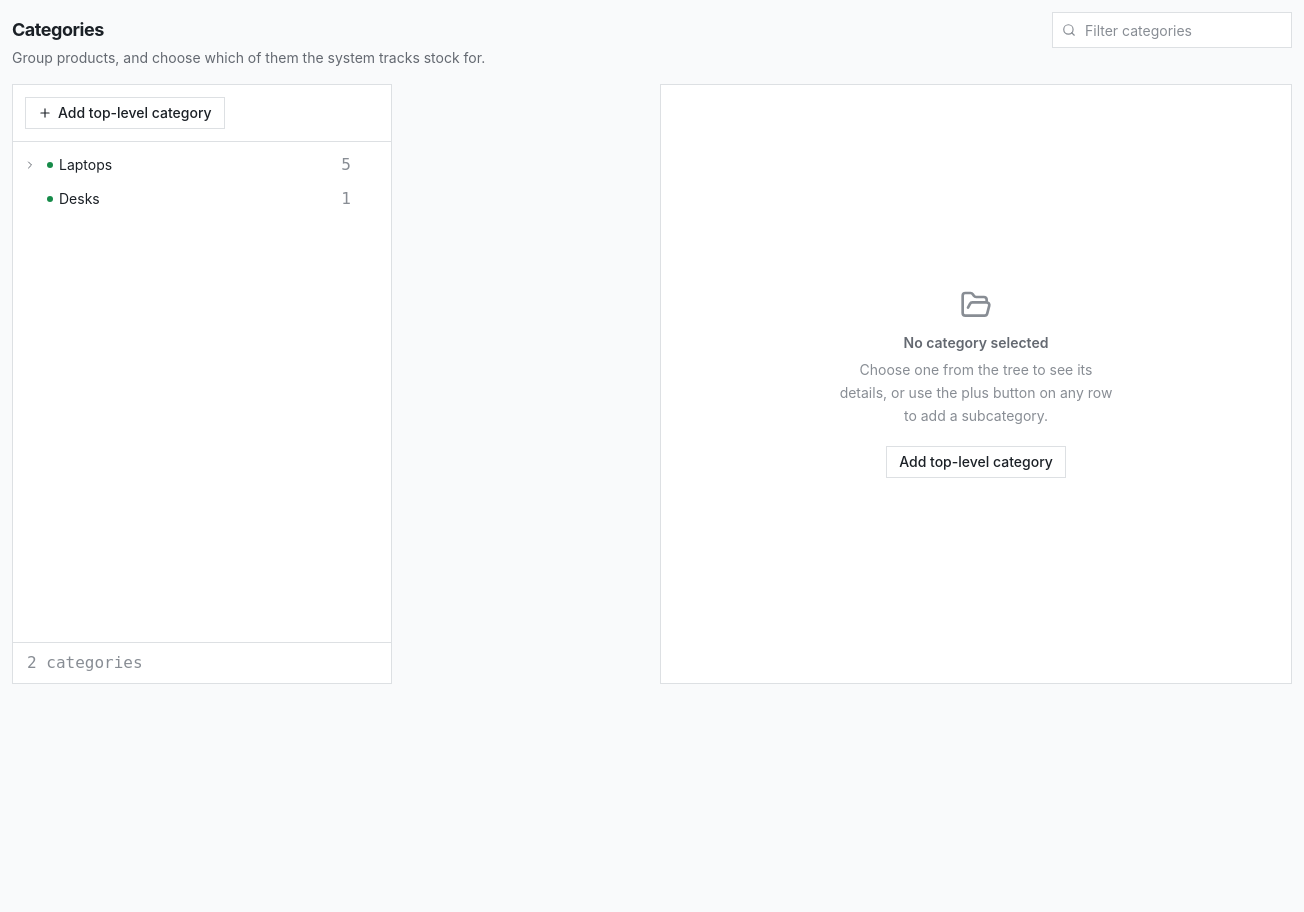
CategoriesPage › the detail panel › shows the selected category, its path and its counts
Step 1. Click the button named "Expand Laptops" → (30, 164), box [19, 154, 41, 176]
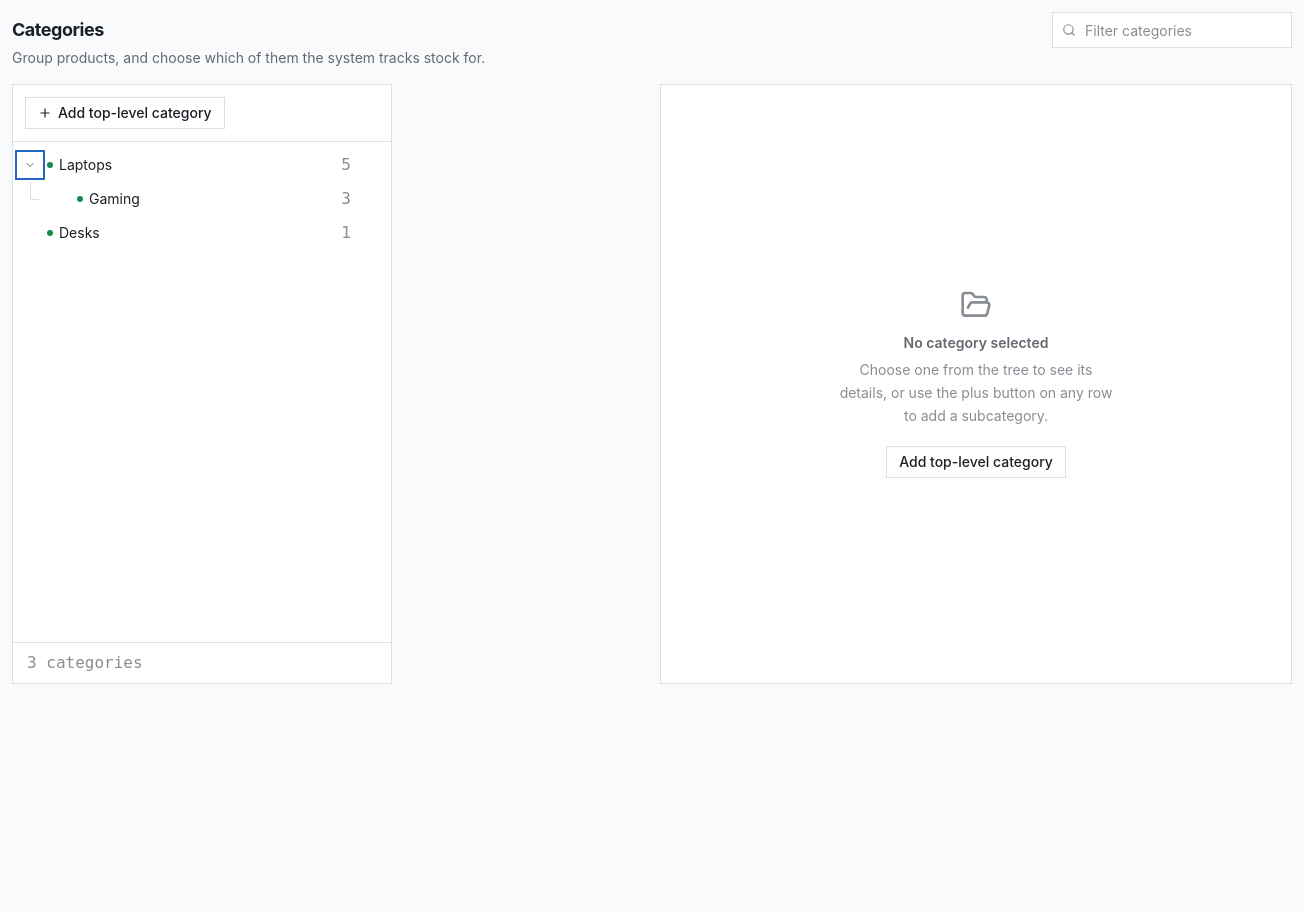
Step 2. Click the list item "Gaming 3" → (114, 198), box [77, 188, 351, 208]
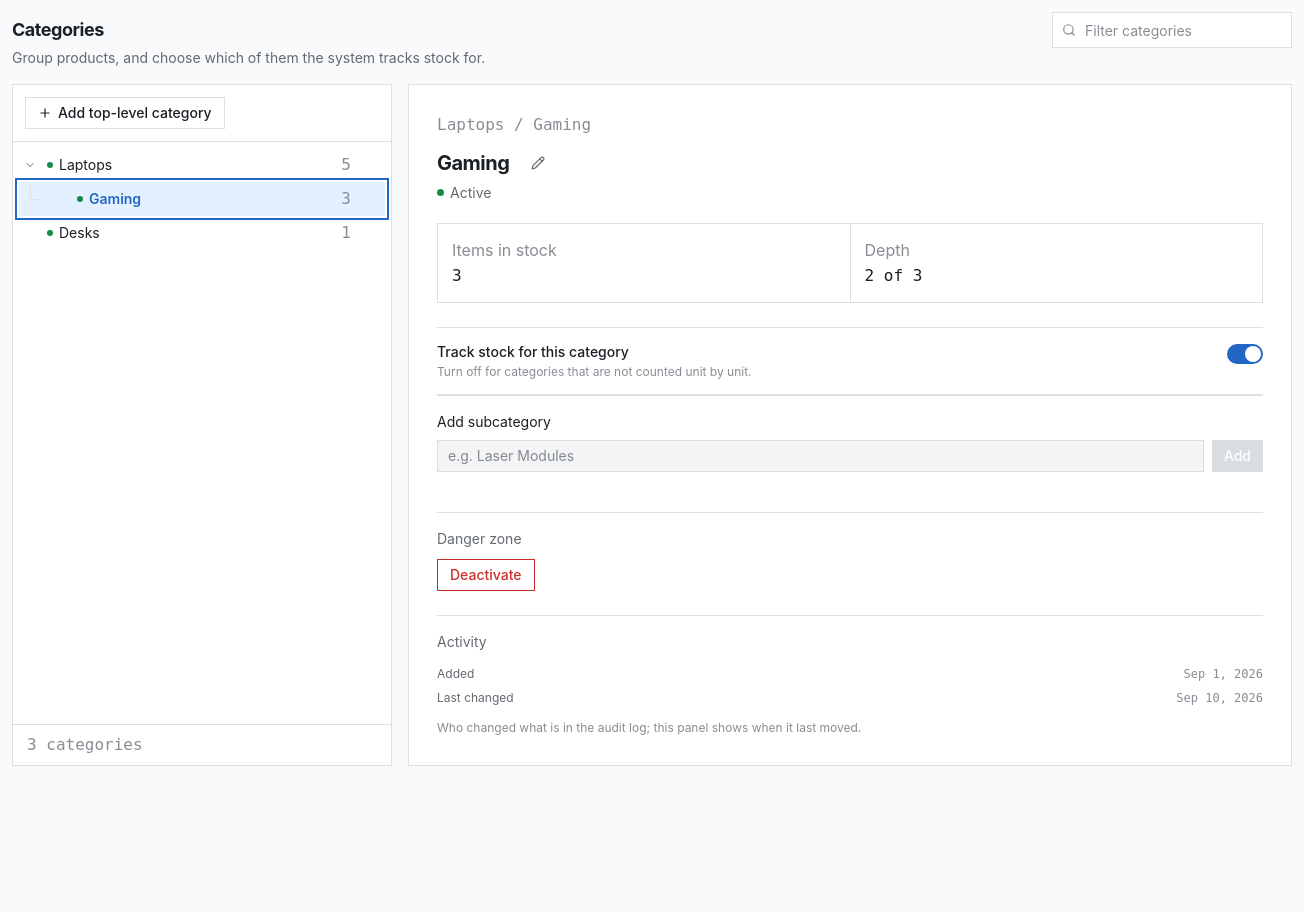
Expected: the heading "Gaming" is shown, [437, 148, 509, 176]
Expected: the text "Laptops / Gaming" is shown, [437, 114, 591, 134]
